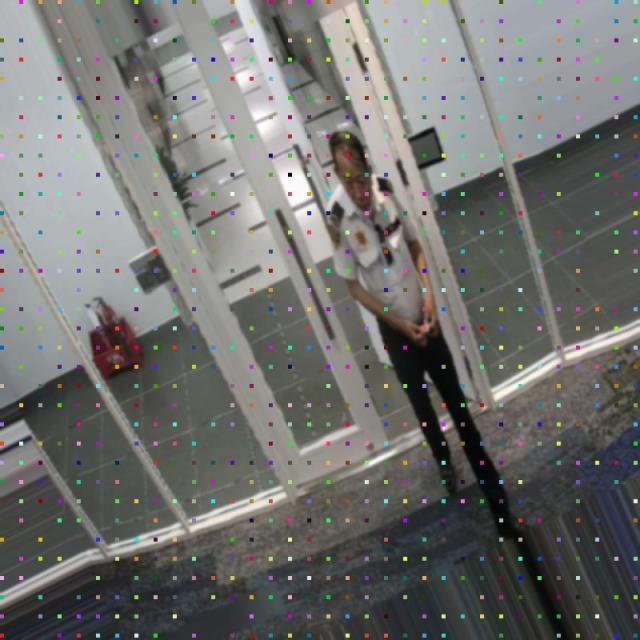hairnet: (339, 165, 378, 221)
